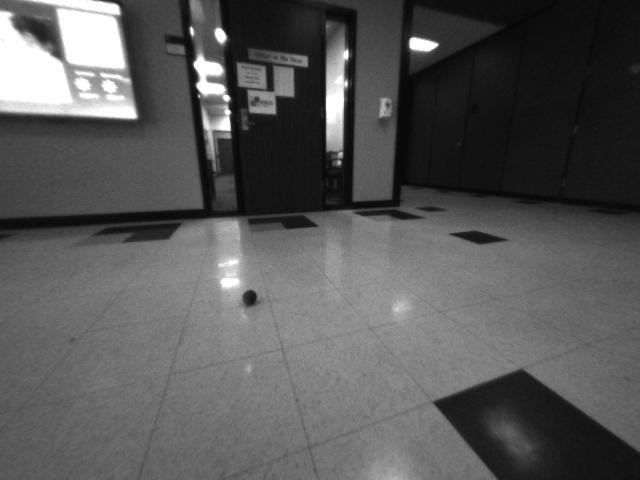dogtoy: (238, 286, 264, 309)
